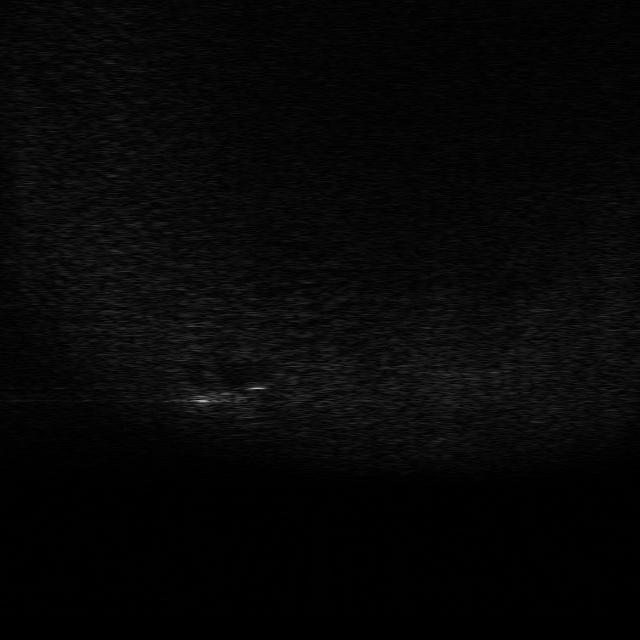plane: (169, 372, 266, 415)
